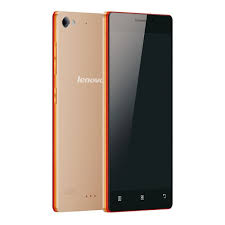lenovo: (48, 6, 177, 214), (103, 9, 175, 212), (50, 8, 106, 213)
